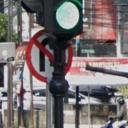NoVirarU: (27, 28, 55, 82)
